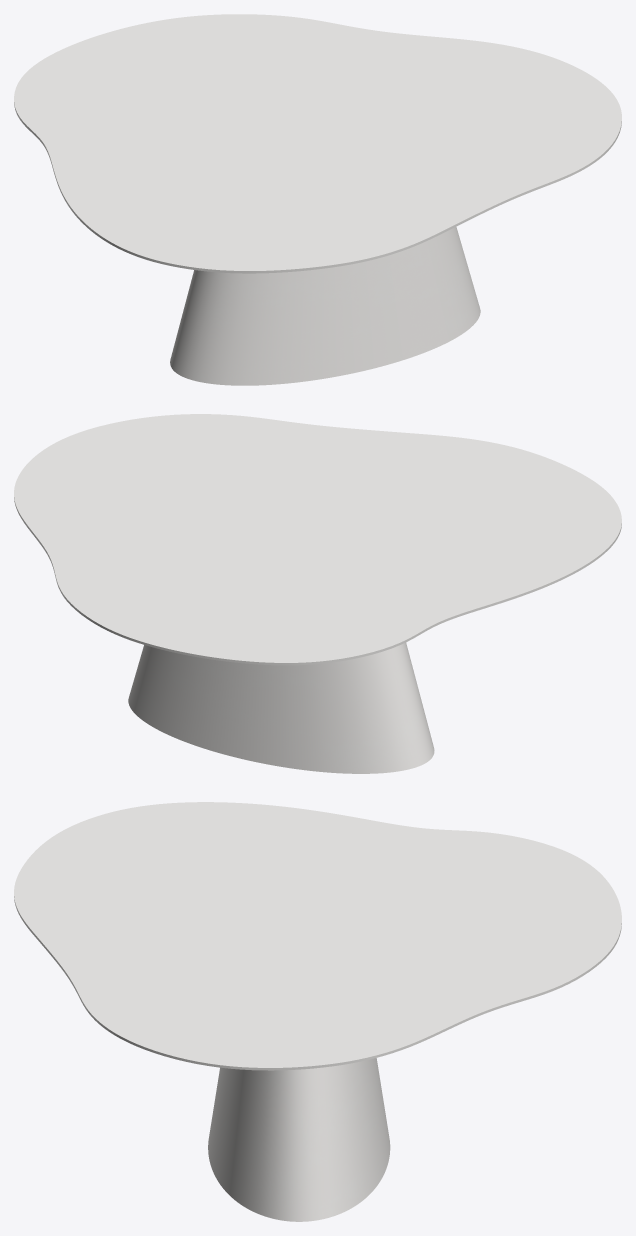
File: purewhite_topone_facet_eqone.glb
The picture shows the model from 3 angles, top to bottom: view 1: azimuth 30°, elevation 25°; view 2: azimuth 150°, elevation 25°; view 3: azimuth 270°, elevation 25°; orthographic projection. The views are drawn at different scales.
Visible parts, largest first — view 1: facet_topone, eqone; view 2: facet_topone, eqone; view 3: facet_topone, eqone.
Boxes of the visible parts, x1,y1,x2,y2 form: facet_topone: (14,14,621,273); eqone: (170,227,480,385); facet_topone: (14,414,621,665); eqone: (128,642,434,773); facet_topone: (14,802,621,1070); eqone: (208,1058,390,1221).
Size of the model in its own units: 6.83 by 2.5 by 6.6.
Materials: 1 (1 with a texture image).
